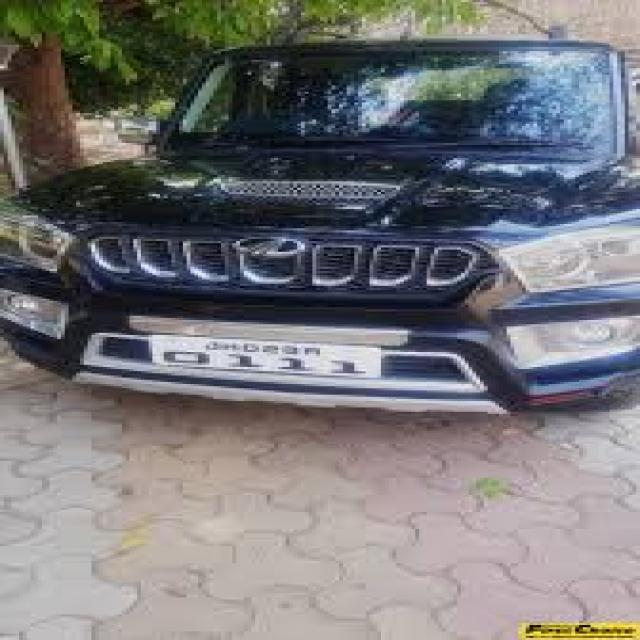Car: (0, 40, 638, 409)
